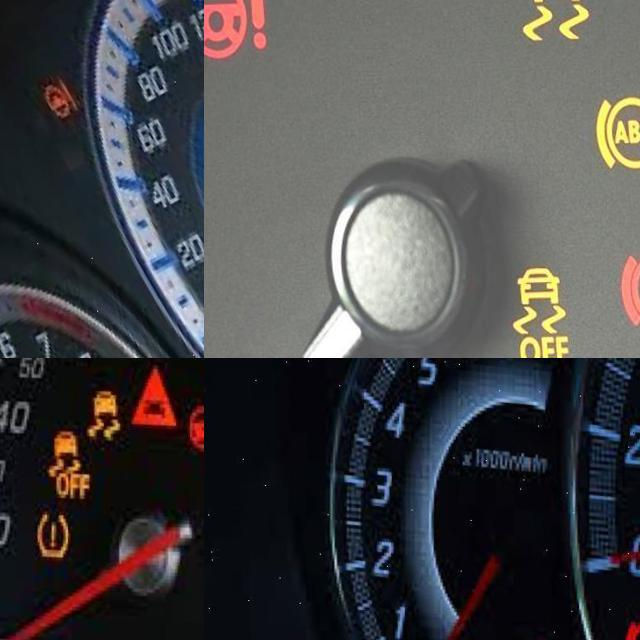Electronic Power Steering: (204, 0, 265, 63), (180, 410, 204, 457)
Electronic Power Steering Warning: (37, 81, 80, 127)
